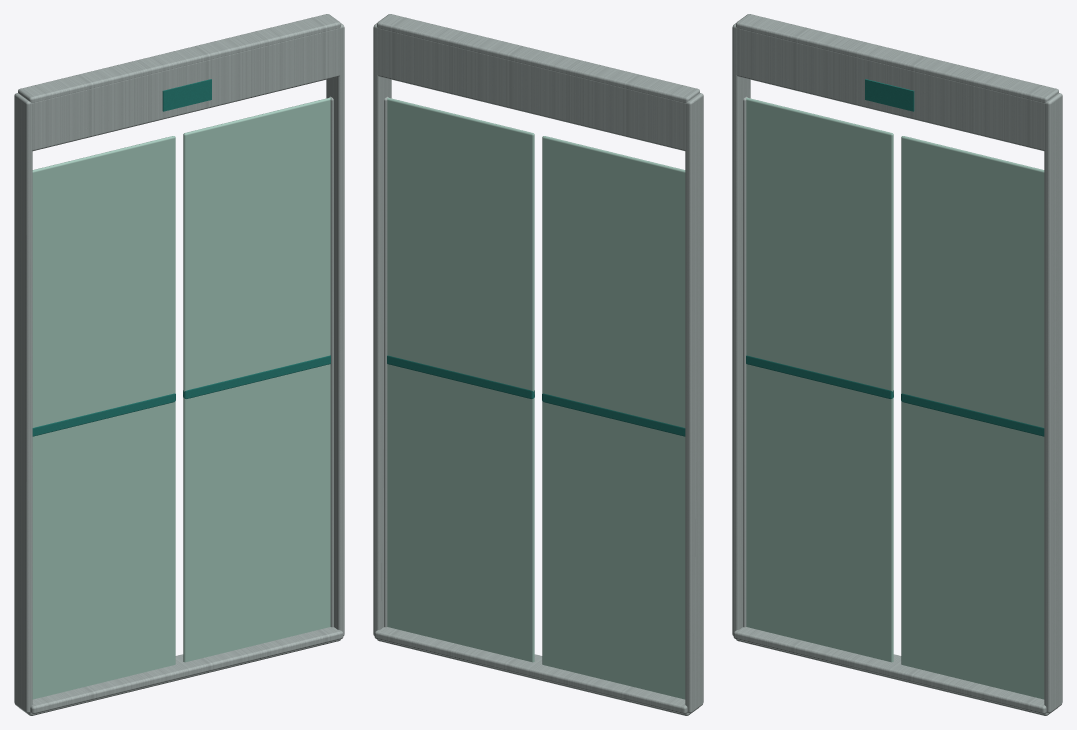
Rendered from detail-screen-door-0.glb.
The picture shows the model from 3 angles, left to right: view 1: azimuth 30°, elevation 25°; view 2: azimuth 150°, elevation 25°; view 3: azimuth 330°, elevation 25°; orthographic projection.
Parts seen in each view (by area): view 1: glass_leaf (×2), frame_side (×2), header, frame_rail (×2), threshold, visibility_band (×2), door_edge, label_door_number; view 2: glass_leaf (×2), frame_side (×2), header, frame_rail (×2), threshold, visibility_band (×2), door_edge; view 3: glass_leaf (×2), frame_side (×2), header, frame_rail (×2), threshold, visibility_band (×2), door_edge, label_door_number.
Boxes of the visible parts, x1,y1,x2,y2 form: glass_leaf (×2): [32, 97, 330, 699]; frame_side (×2): [14, 23, 344, 713]; header: [32, 28, 340, 151]; frame_rail (×2): [18, 14, 340, 715]; threshold: [30, 627, 343, 713]; visibility_band (×2): [32, 355, 330, 436]; door_edge: [329, 96, 333, 627]; label_door_number: [162, 79, 211, 111]; glass_leaf (×2): [387, 97, 685, 699]; frame_side (×2): [373, 23, 703, 713]; header: [377, 28, 686, 151]; frame_rail (×2): [377, 14, 699, 715]; threshold: [374, 627, 687, 713]; visibility_band (×2): [387, 355, 685, 436]; door_edge: [384, 96, 388, 627]; glass_leaf (×2): [746, 97, 1044, 699]; frame_side (×2): [732, 23, 1062, 713]; header: [736, 28, 1045, 151]; frame_rail (×2): [736, 14, 1058, 715]; threshold: [733, 627, 1046, 713]; visibility_band (×2): [746, 355, 1044, 436]; door_edge: [743, 96, 747, 627]; label_door_number: [865, 79, 914, 111].
Bounding box in the file's own units: 1.64 × 3.04 × 0.16.
3 materials, 2 textured.
